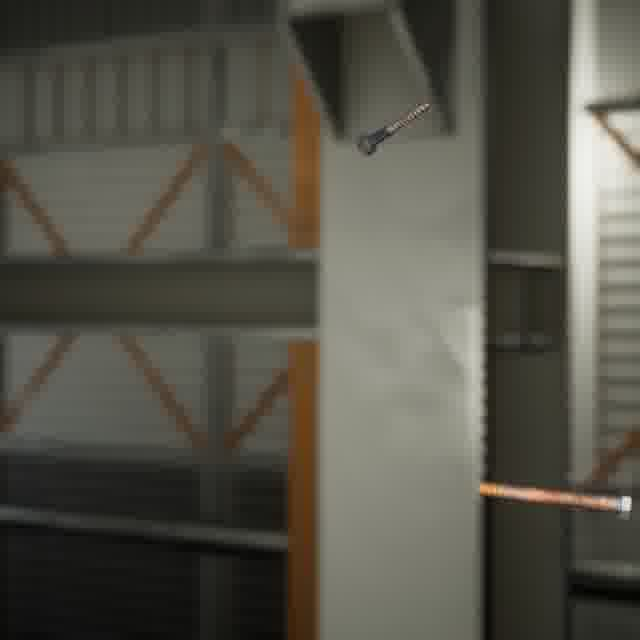bolt: (473, 476, 636, 524), (352, 96, 435, 159)
